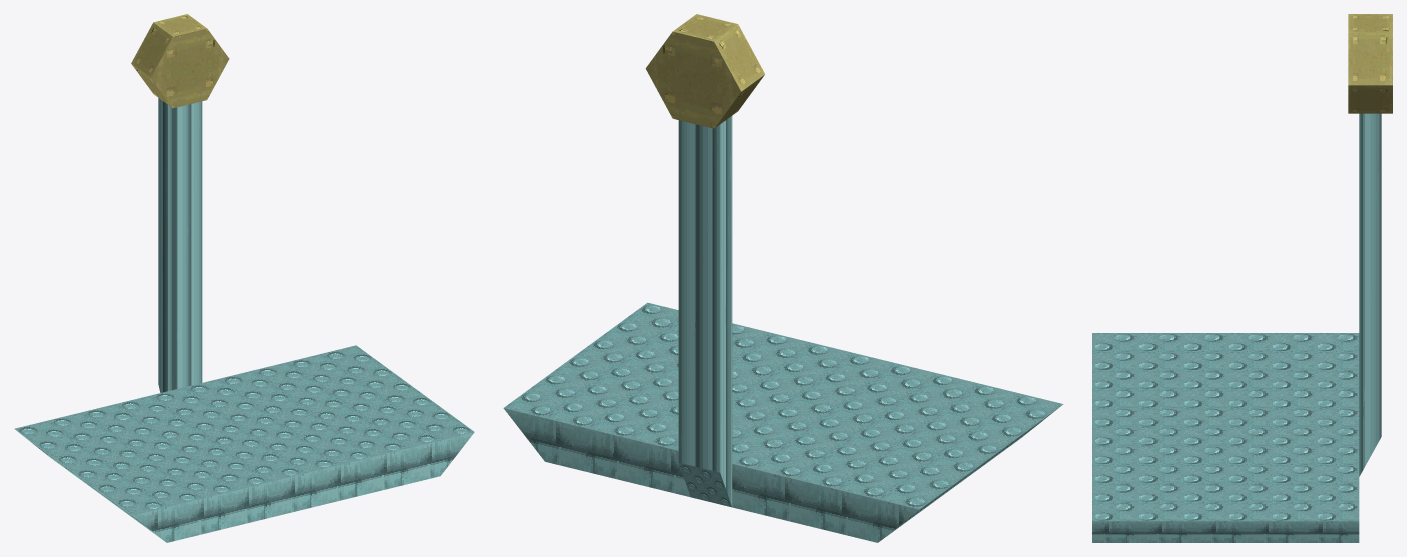
File: rc_buranko.obj
3 views of the same model, side by side, from view 1: azimuth 30°, elevation 25°; view 2: azimuth 150°, elevation 25°; view 3: azimuth 270°, elevation 25° (orthographic). The views are drawn at different scales.
Visible parts, largest first — view 1: world_root; view 2: world_root; view 3: world_root.
Boxes of the visible parts, x1,y1,x2,y2 form: world_root: (14, 14, 474, 542); world_root: (503, 14, 1063, 542); world_root: (1092, 14, 1392, 542).
Bounding box in the file's own units: 125 × 138 × 84.38.
3 materials, 3 textured.
